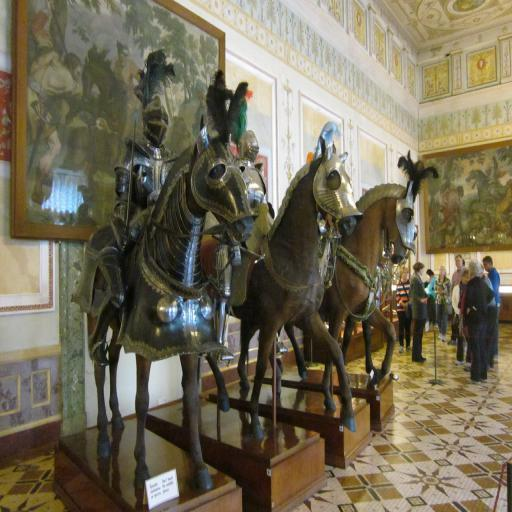horse: (84, 112, 256, 506), (192, 138, 360, 446), (284, 174, 420, 410)
